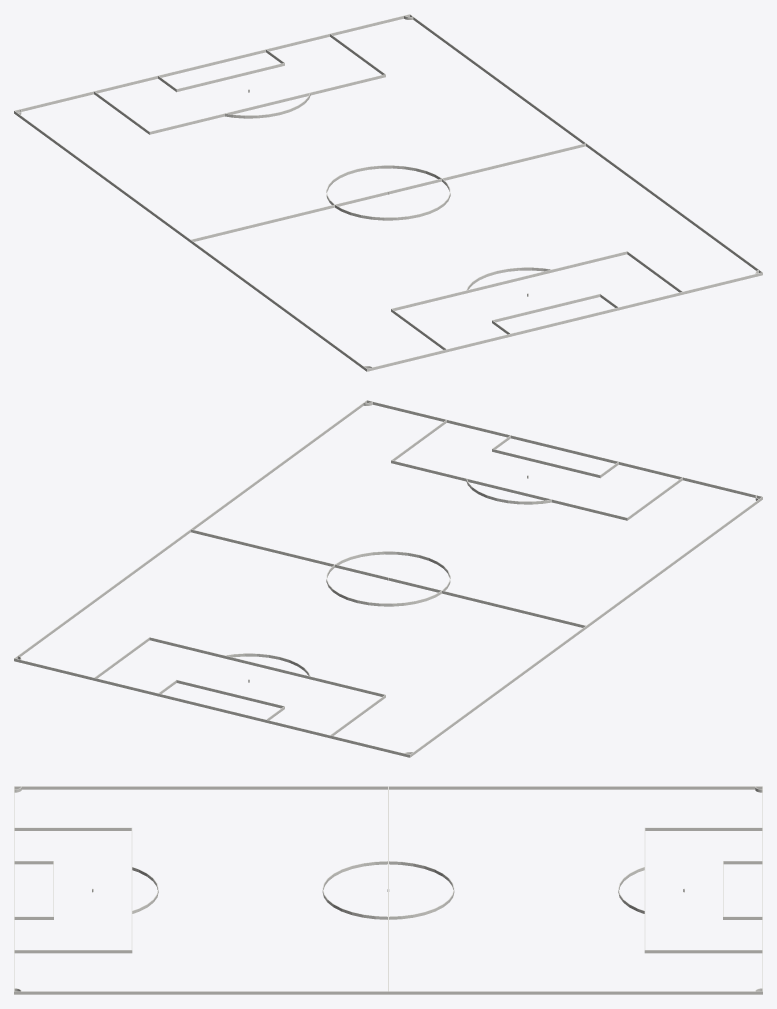
Rendered from football ground.fbx.
The picture shows the model from 3 angles, top to bottom: view 1: azimuth 30°, elevation 25°; view 2: azimuth 150°, elevation 25°; view 3: azimuth 270°, elevation 25°; orthographic projection. The views are drawn at different scales.
Parts seen in each view (by area): view 1: Object_7; view 2: Object_7; view 3: Object_7.
Part boxes in pixels (x1,y1,x2,y2): Object_7: (14,14,762,371); Object_7: (14,400,762,757); Object_7: (14,786,762,994).
Size of the model in its own units: 2918 by 19.75 by 4504.
1 material, 1 textured.
